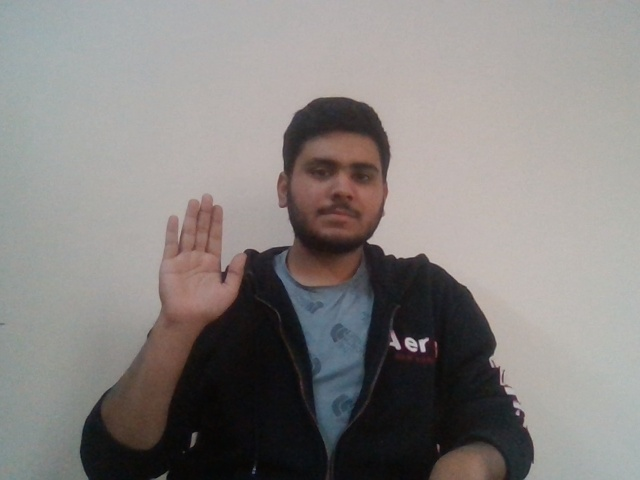Hello: (152, 187, 254, 319)
